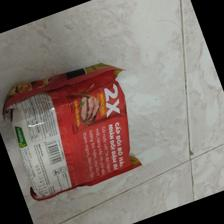3mien: (3, 59, 144, 201)
